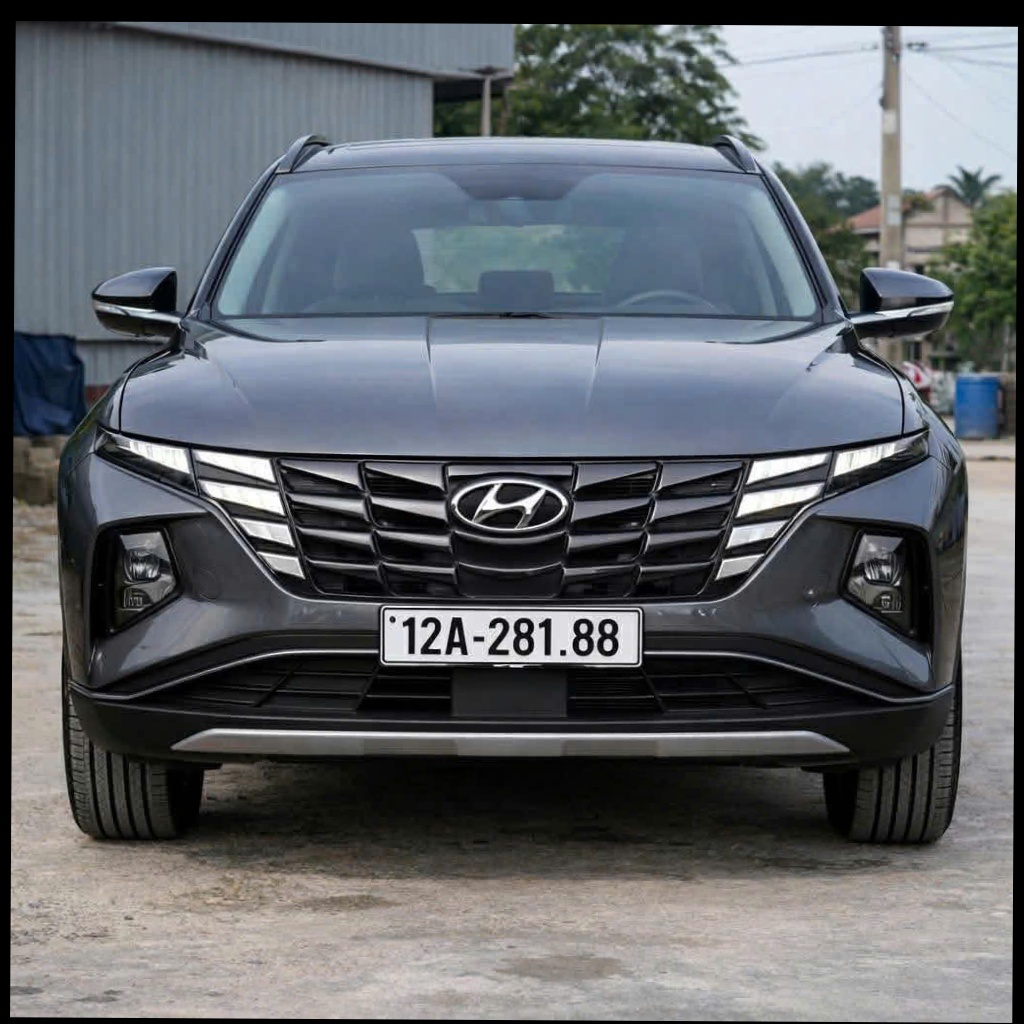Bien-so: (375, 603, 651, 668)
